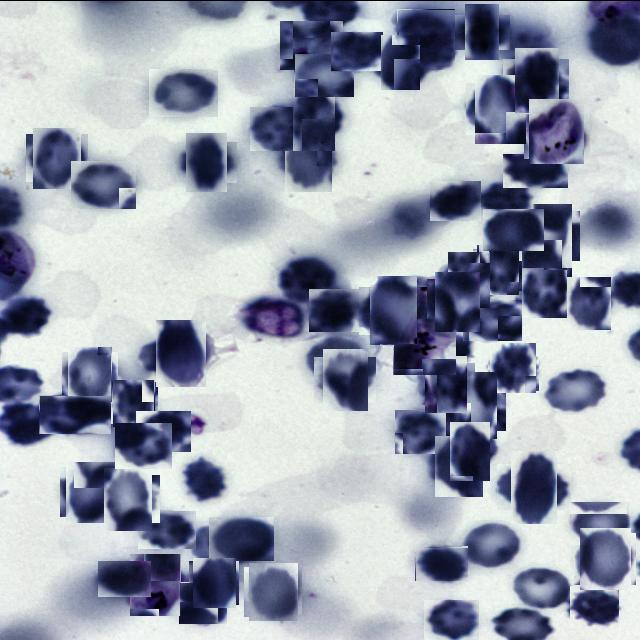red blood cell: (504, 456, 564, 516), (470, 78, 530, 138), (442, 374, 502, 434), (397, 8, 455, 69), (151, 323, 210, 382), (518, 206, 576, 264), (364, 281, 422, 339), (149, 68, 218, 116), (509, 562, 574, 612), (576, 530, 634, 586), (70, 159, 136, 208), (280, 19, 344, 69), (542, 365, 607, 414), (462, 520, 523, 572), (63, 463, 119, 519), (280, 130, 336, 186), (508, 53, 564, 109), (275, 255, 340, 303), (100, 471, 156, 526), (431, 438, 486, 493), (318, 352, 372, 407), (30, 130, 84, 184), (246, 564, 300, 618), (431, 274, 484, 328), (209, 516, 274, 560), (250, 106, 315, 150), (304, 336, 368, 380), (39, 394, 111, 433), (288, 92, 341, 144), (569, 500, 631, 544), (115, 422, 173, 468), (294, 52, 354, 96), (518, 264, 570, 314), (483, 208, 544, 250), (182, 136, 232, 187), (462, 298, 522, 340), (65, 348, 115, 398), (421, 358, 471, 408), (445, 425, 495, 475), (445, 254, 494, 304), (564, 278, 613, 327), (489, 343, 538, 391), (394, 408, 446, 453), (424, 598, 479, 640), (190, 558, 238, 606), (182, 455, 232, 501), (377, 38, 424, 86), (136, 410, 191, 451), (503, 153, 568, 187), (475, 245, 522, 292), (138, 510, 196, 548), (309, 288, 359, 331), (331, 32, 383, 72), (570, 585, 619, 627), (430, 180, 481, 220), (179, 581, 227, 623), (460, 9, 504, 54), (112, 380, 156, 424), (98, 560, 151, 596), (415, 546, 468, 580), (480, 180, 533, 214)
trophozoite: (526, 100, 588, 161), (393, 317, 456, 374), (126, 555, 184, 613)
